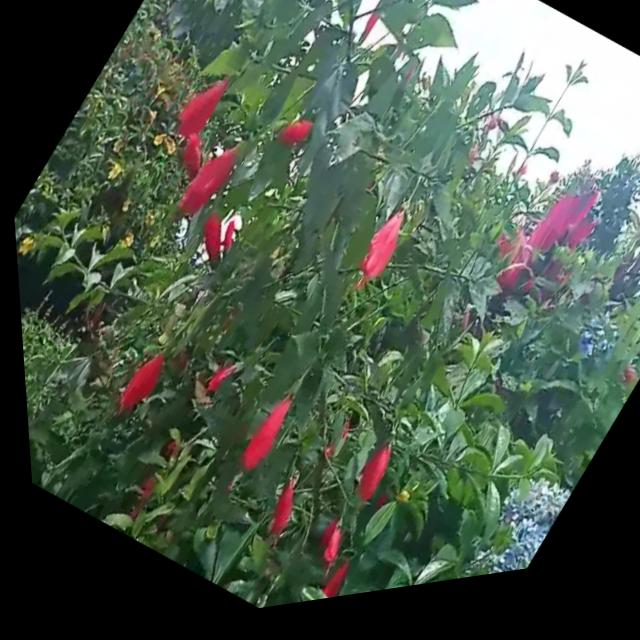Flower: (208, 374, 312, 508), (165, 122, 260, 235), (335, 203, 423, 312), (333, 431, 410, 523), (98, 344, 172, 432), (169, 69, 238, 154), (244, 471, 313, 553), (180, 207, 246, 279), (295, 515, 355, 585), (309, 565, 349, 608)
